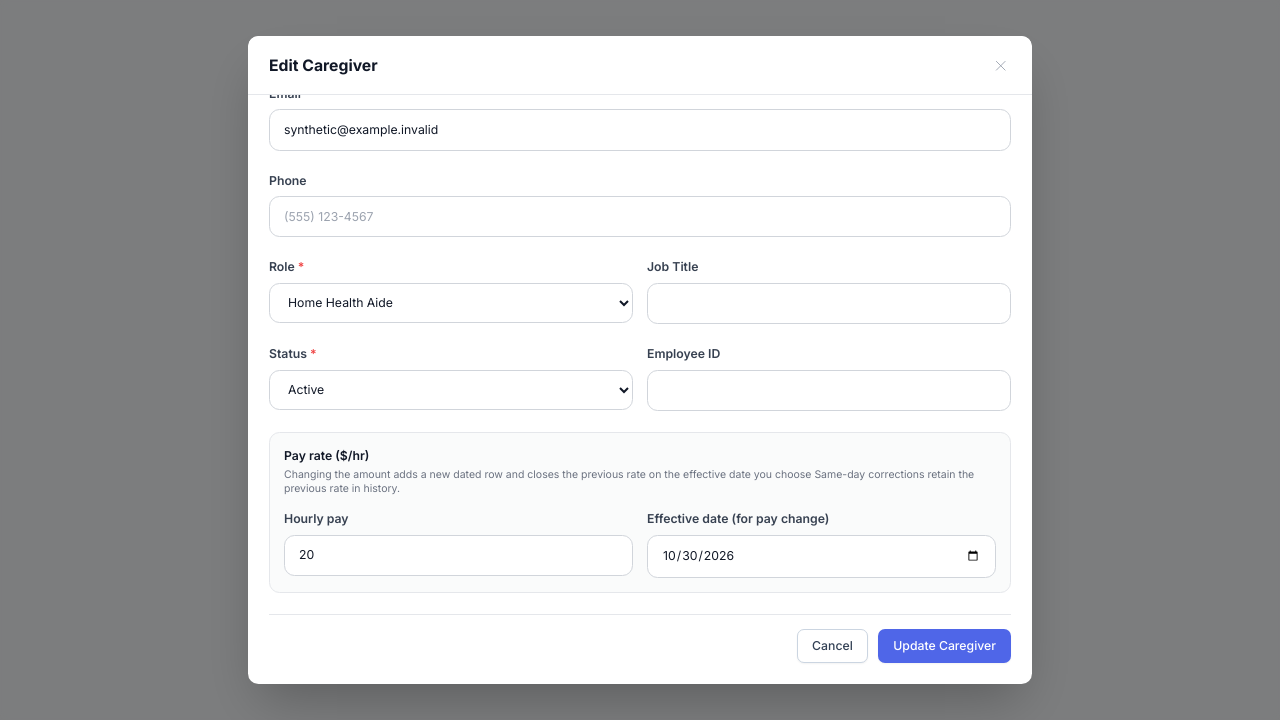
server field errors are displayed inline without closing the caregiver form
(page scrolled)
Click the button "Update Caregiver" at (945, 646), box [878,629,1011,662]
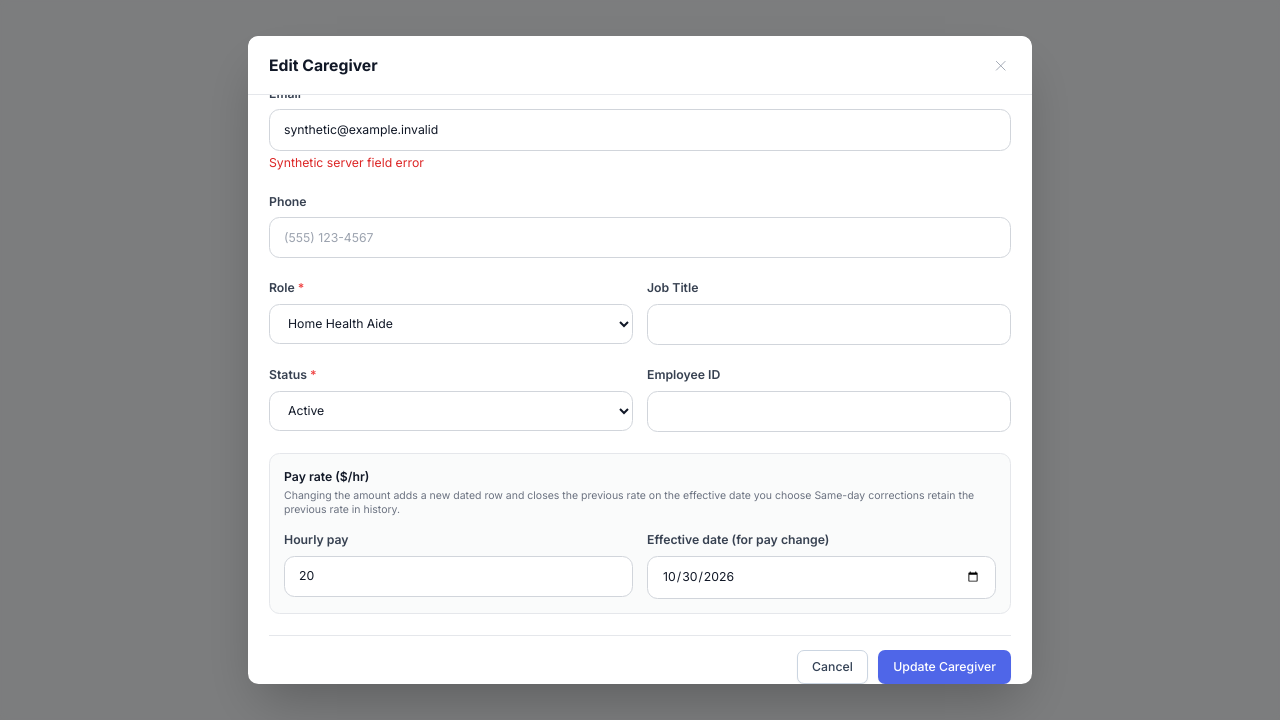
Expected: the text "Synthetic server field error" is shown, [269,155,424,170]
